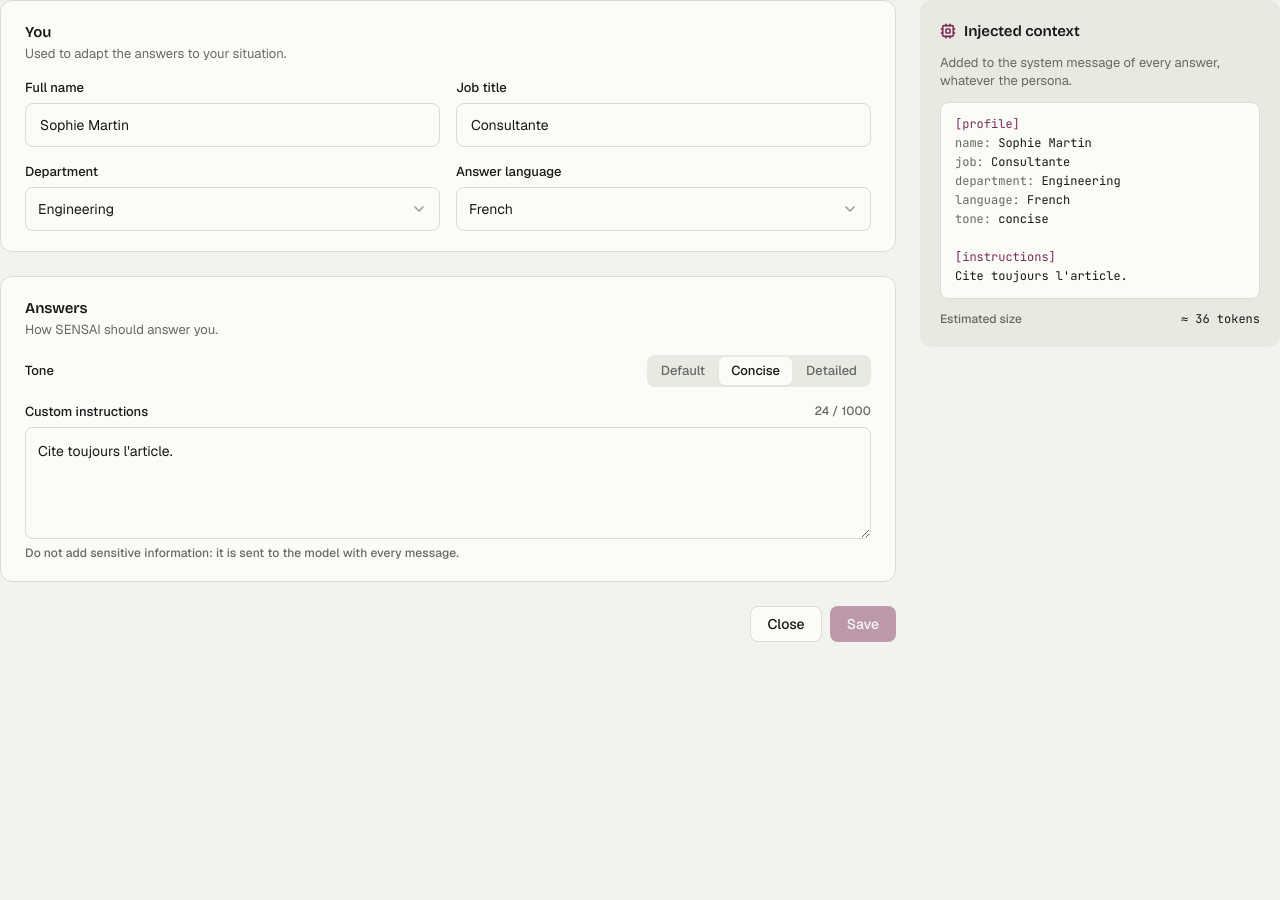
Scenario: ProfileForm › shows the saved profile, and Save only once something changed
Check: the button "Save" is disabled, box [830,606,896,642]
Replace the text in the field labelled "Job title" with "Manager": (666, 125) [469,104,862,146]
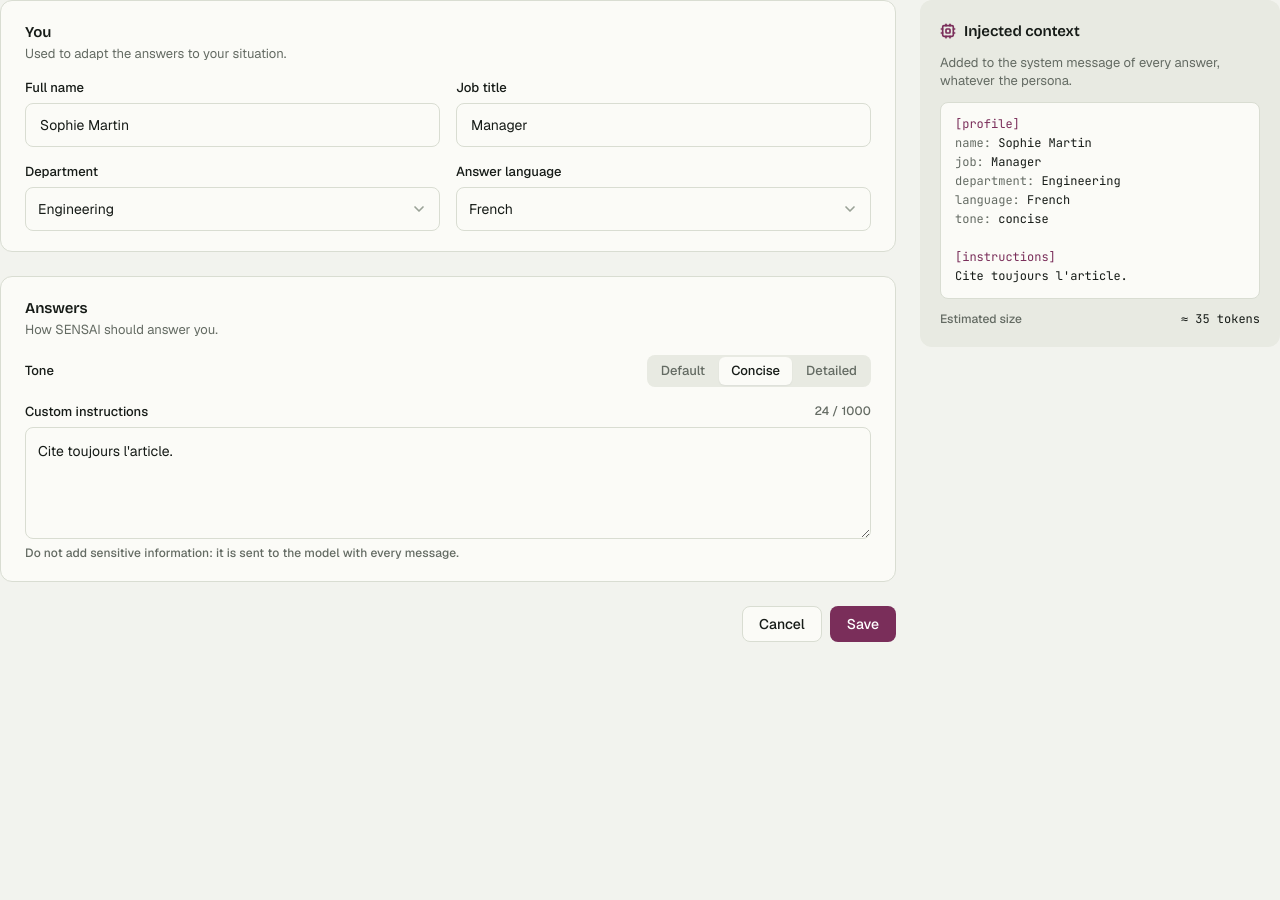
Check: the button "Save" is enabled, box [830,606,896,642]
